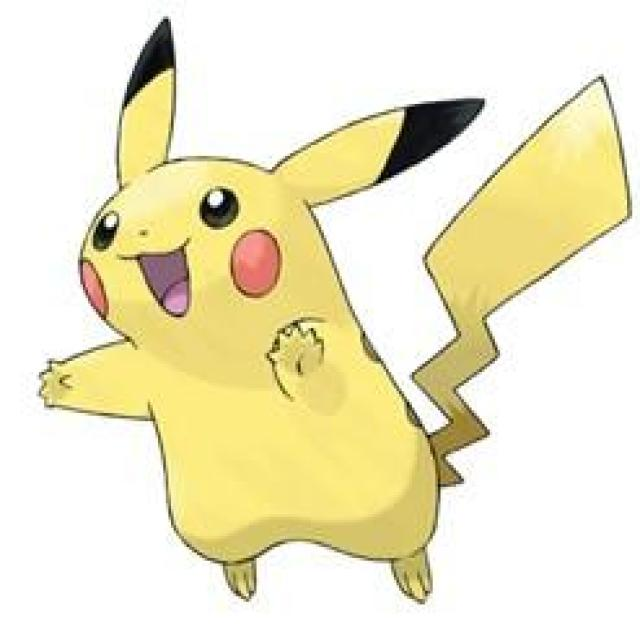pikachu: (31, 11, 640, 602)
